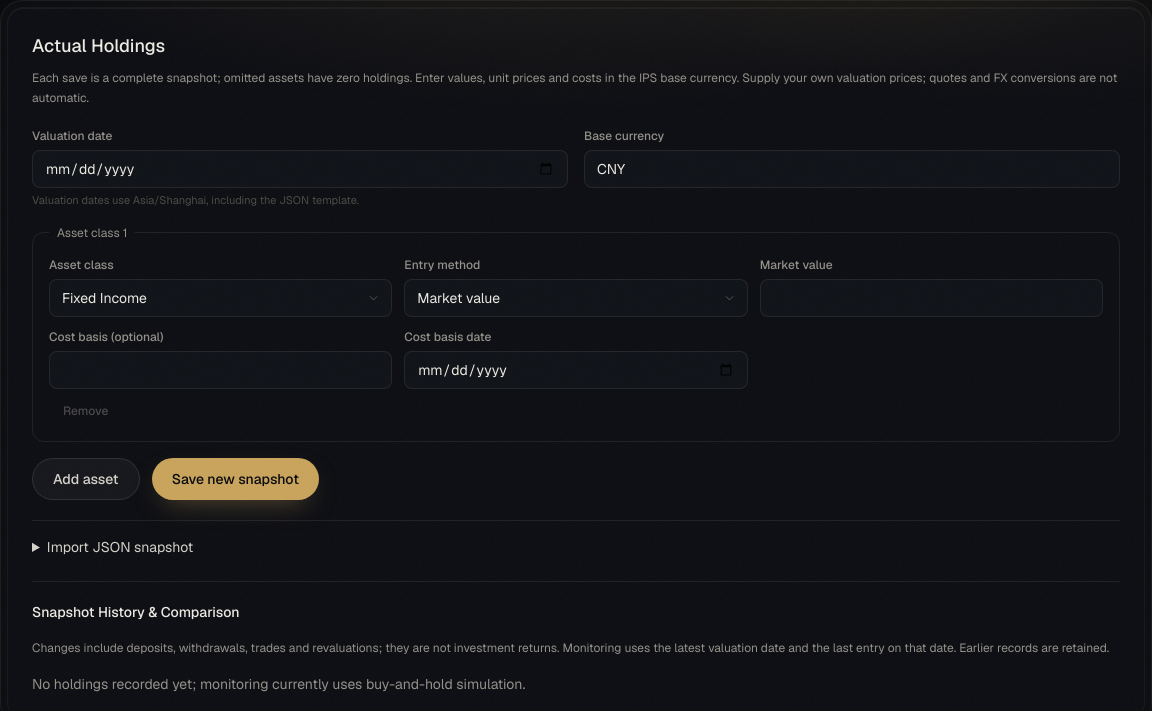
Test: HoldingsWorkspace › records a base-currency amount and refreshes the monitoring snapshot
Expected: the text "No holdings recorded yet; monitoring currently uses buy-and-hold simulation." is shown, [32, 674, 525, 692]
Type "2026-06-10" into the date field labelled "Valuation date" at (300, 169), box [32, 150, 568, 188]
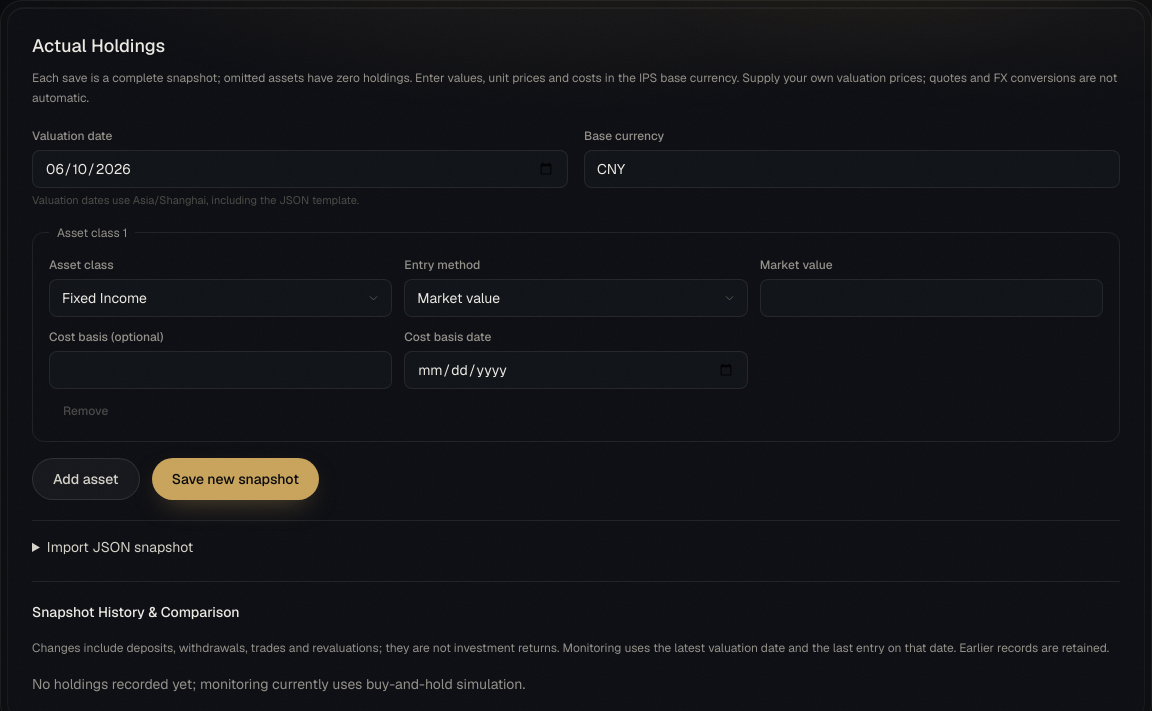
Type "800" into the number field labelled "Market value" at (931, 298), box [760, 278, 1103, 316]
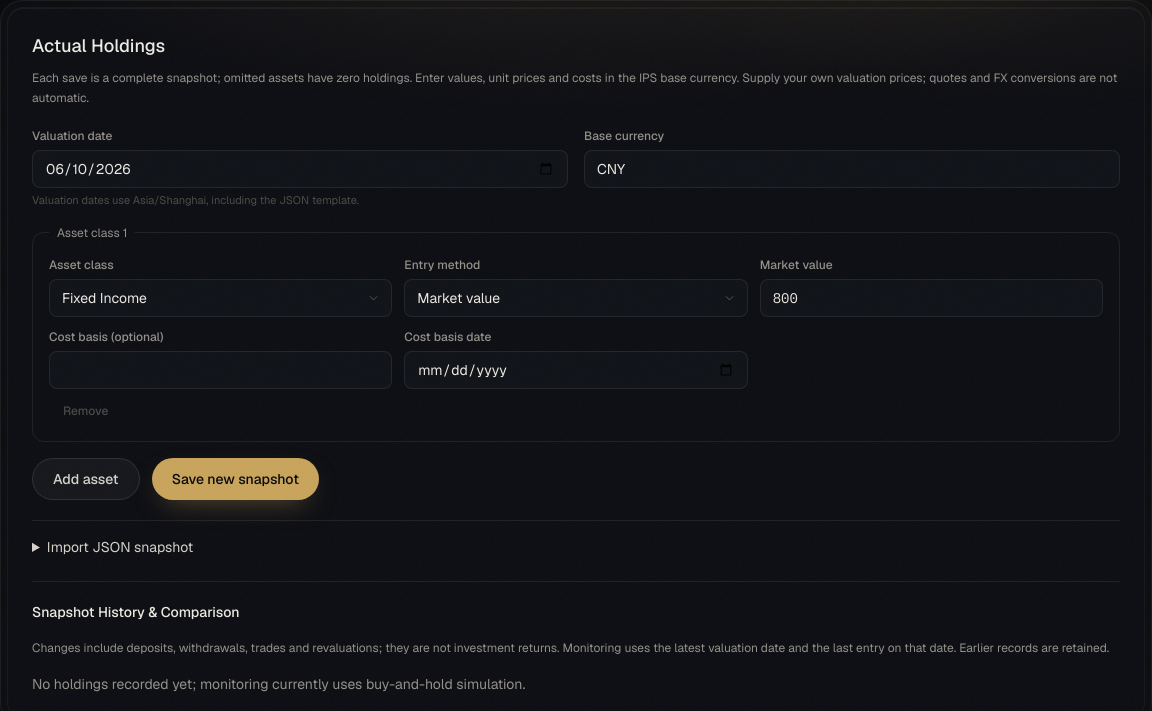
Type "700" into the number field labelled "Cost basis (optional)" at (221, 370), box [49, 350, 392, 388]
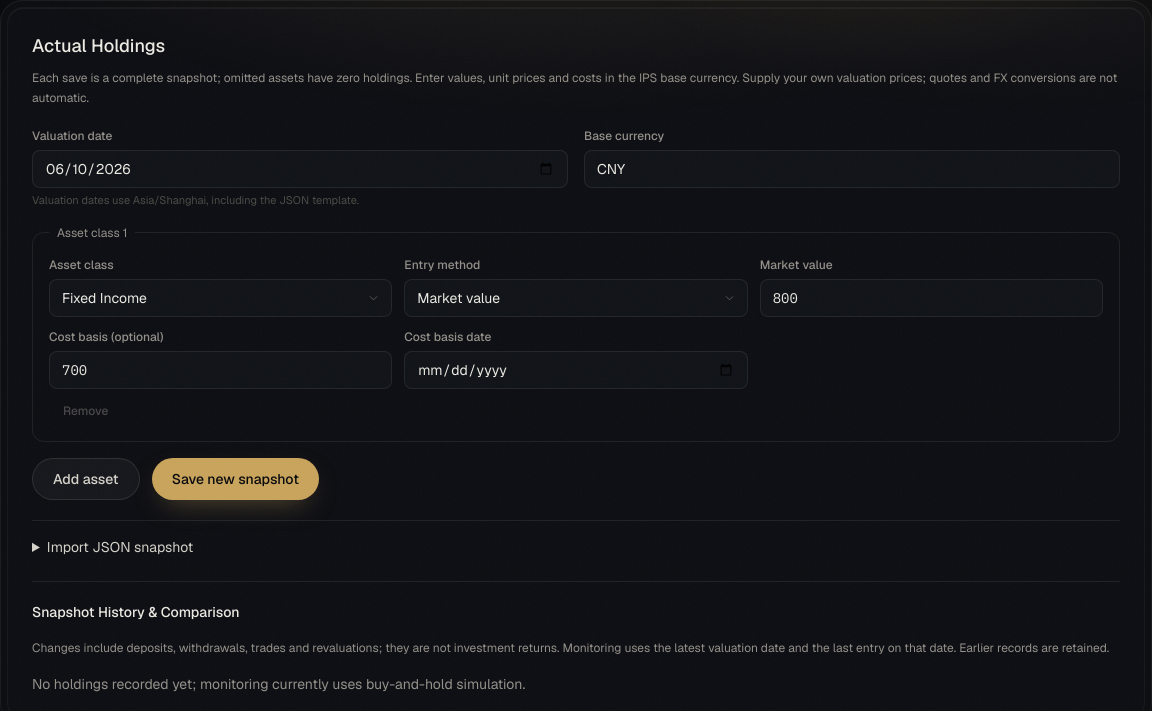
Type "2026-01-01" into the date field labelled "Cost basis date" at (576, 370), box [404, 350, 748, 388]
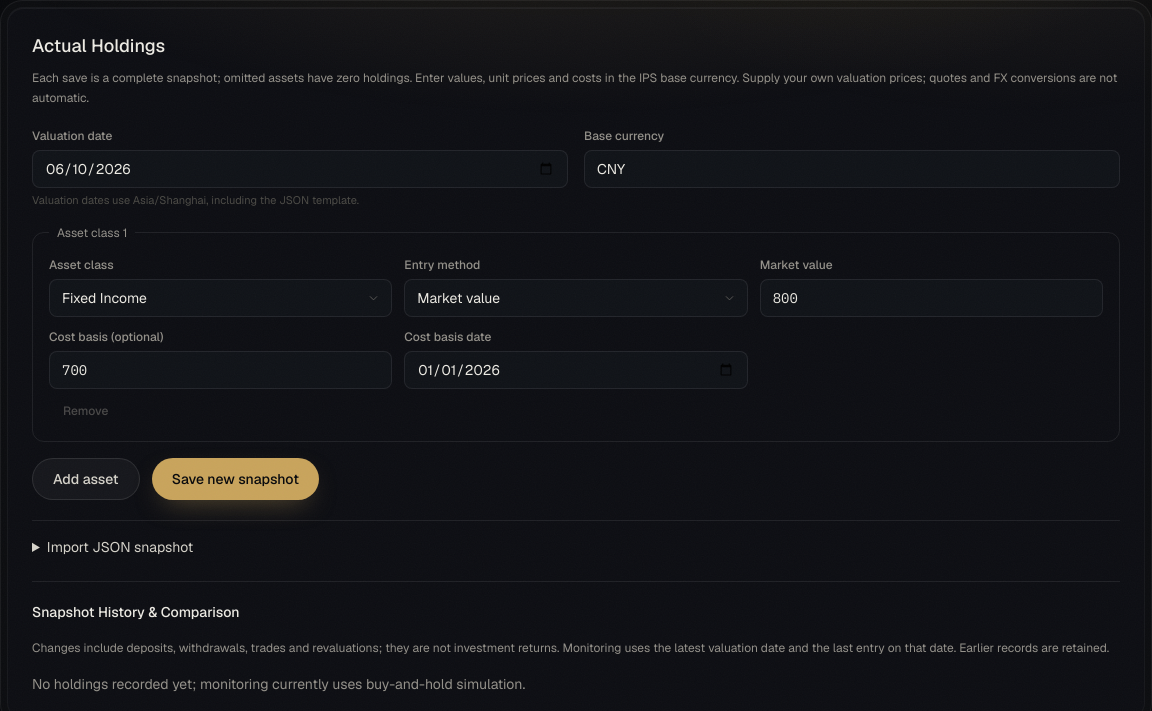
Click the button "Save new snapshot" at (235, 478), box [152, 458, 319, 500]
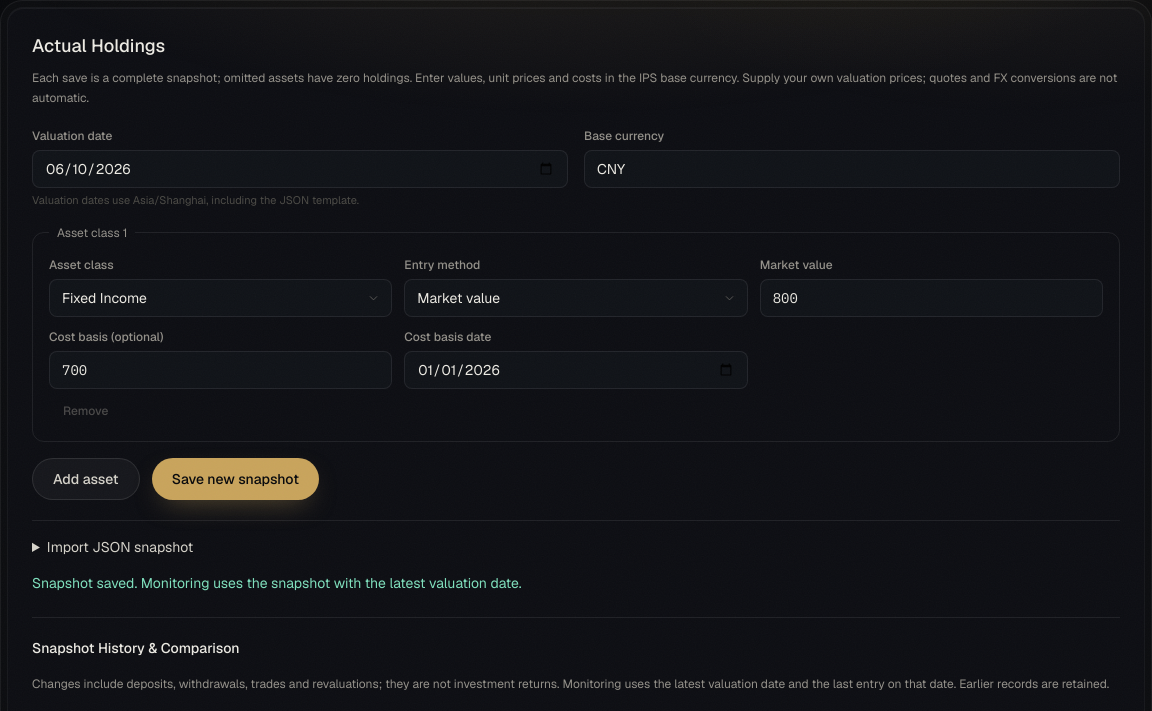
Result: the message reads "Snapshot saved. Monitoring uses the snapshot with the latest valuation date." at [32, 574, 522, 592]
